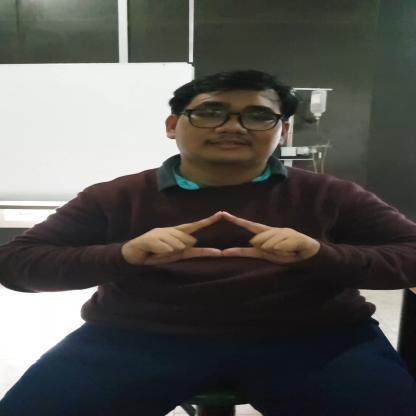A: (122, 211, 320, 266)
